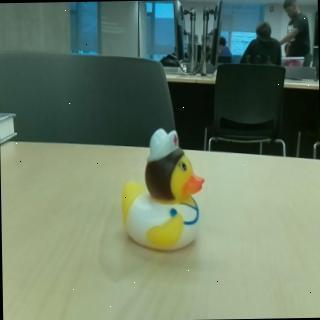duck_specialty: (119, 126, 207, 253)
